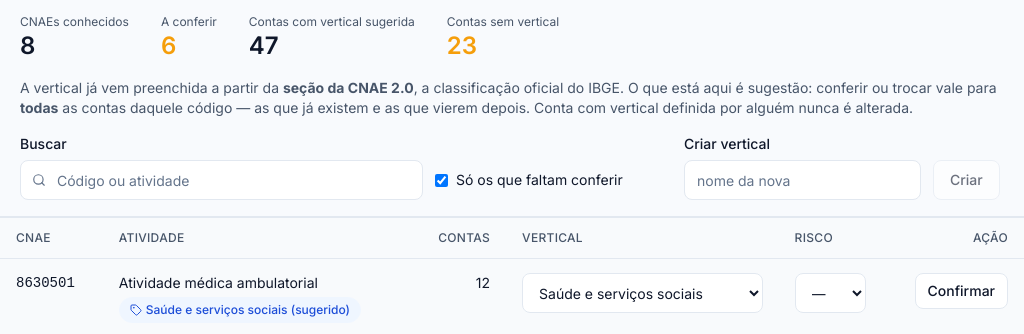
it: DeParaCnaes › trocar a sugestão troca o rótulo do botão para Aplicar
Check: the text "Atividade médica ambulatorial" is shown, box [119, 274, 318, 291]
Check: the button "Confirmar" is shown, box [915, 273, 1008, 309]
Select "Serviços" in the dropdown named "Vertical do CNAE 8630501" at x=642, y=293, box [522, 273, 763, 313]
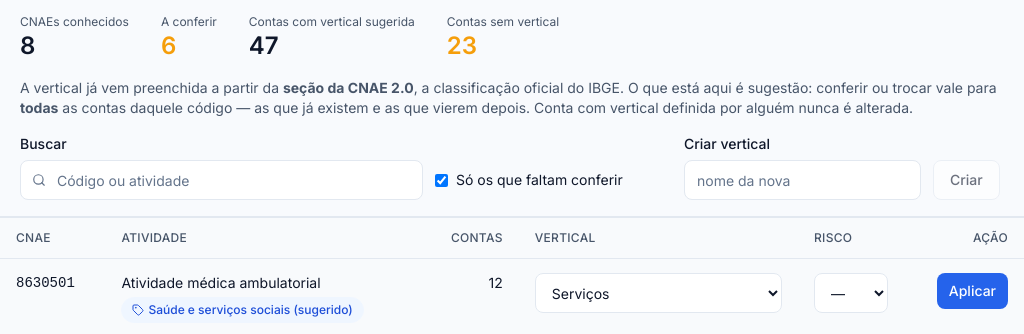
Check: the button "Aplicar" is shown, box [937, 273, 1008, 309]
Check: the button "Confirmar" is gone
